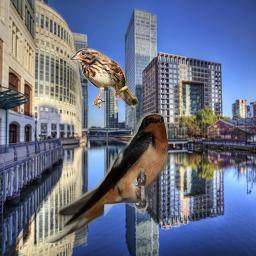Sparrow: (70, 48, 139, 109)
Swallow: (44, 113, 168, 243)
